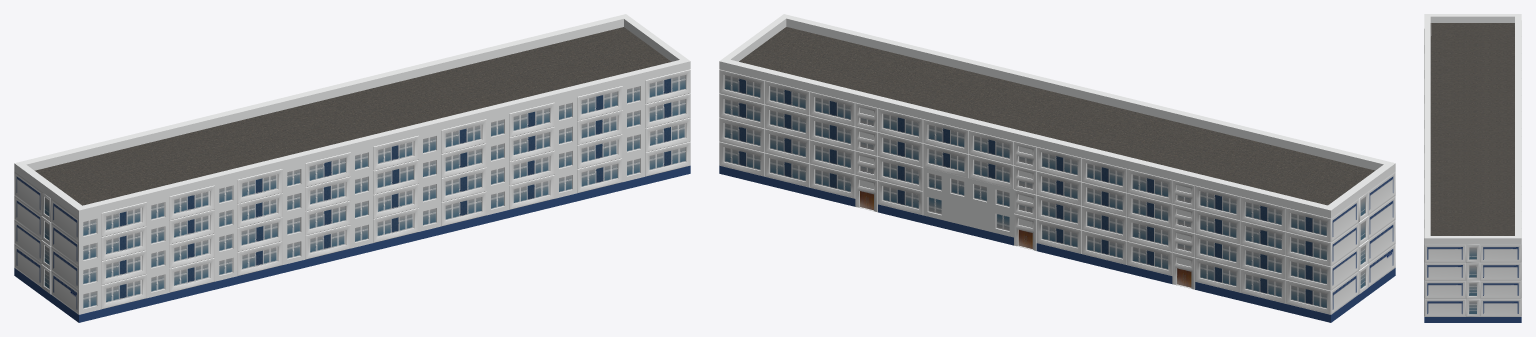
The model's file is house_new_10.glb.
3 views of the same model, side by side, from view 1: azimuth 30°, elevation 25°; view 2: azimuth 150°, elevation 25°; view 3: azimuth 270°, elevation 25° (orthographic). The views are drawn at different scales.
Visible parts, largest first — view 1: Mesh_2.002; view 2: Mesh_2.002; view 3: Mesh_2.002.
Part boxes in pixels (x1,y1,x2,y2): Mesh_2.002: [14, 14, 690, 322]; Mesh_2.002: [719, 14, 1395, 322]; Mesh_2.002: [1424, 14, 1521, 322].
Size of the model in its own units: 13.84 by 2.43 by 2.54.
Materials: 1 (1 with a texture image).
